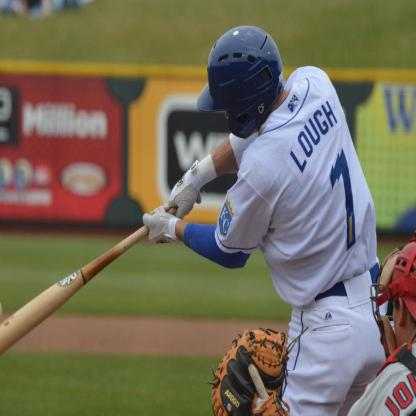Helmet: (199, 26, 285, 132), (371, 240, 416, 346)
